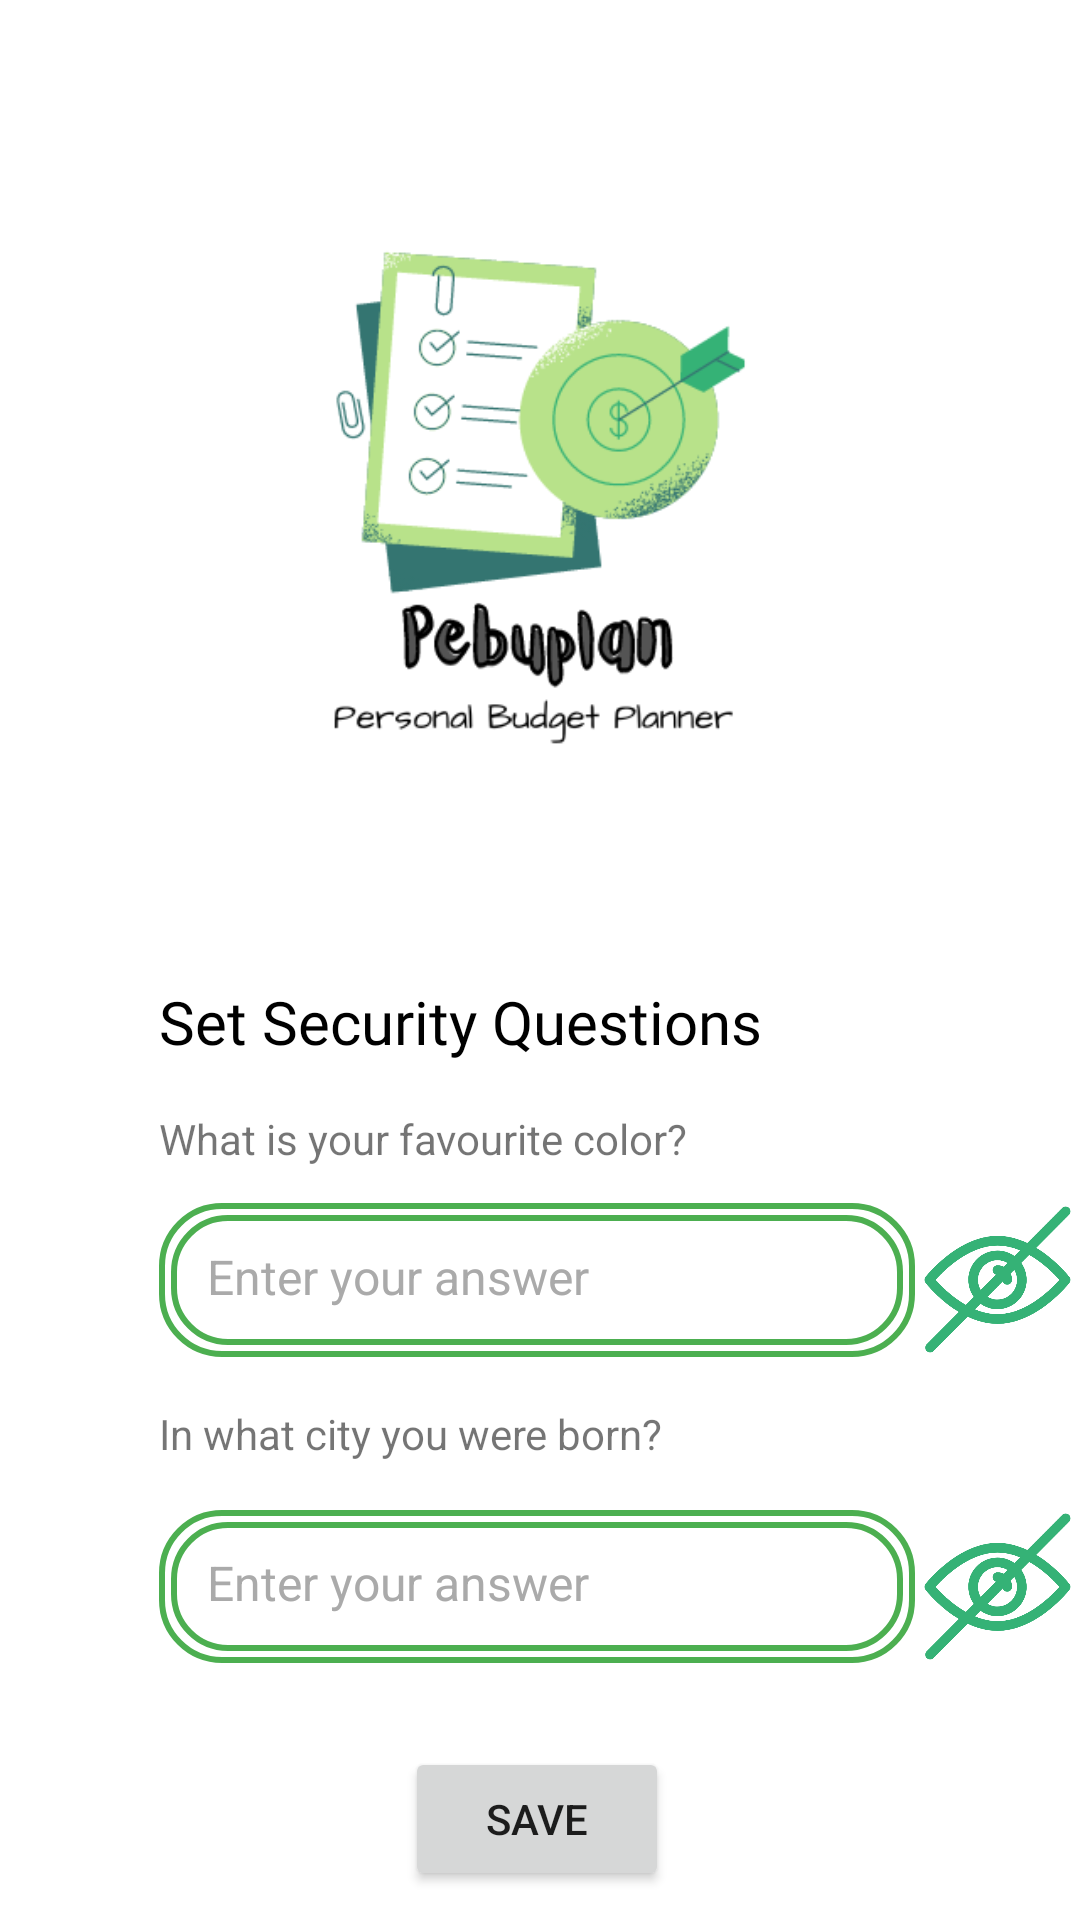

Screen size 1080 × 1920. Icon name, then its box in pixels as (x1, y1, x2, y2):
hide password: (924, 1206, 1071, 1353), (924, 1513, 1071, 1660)
